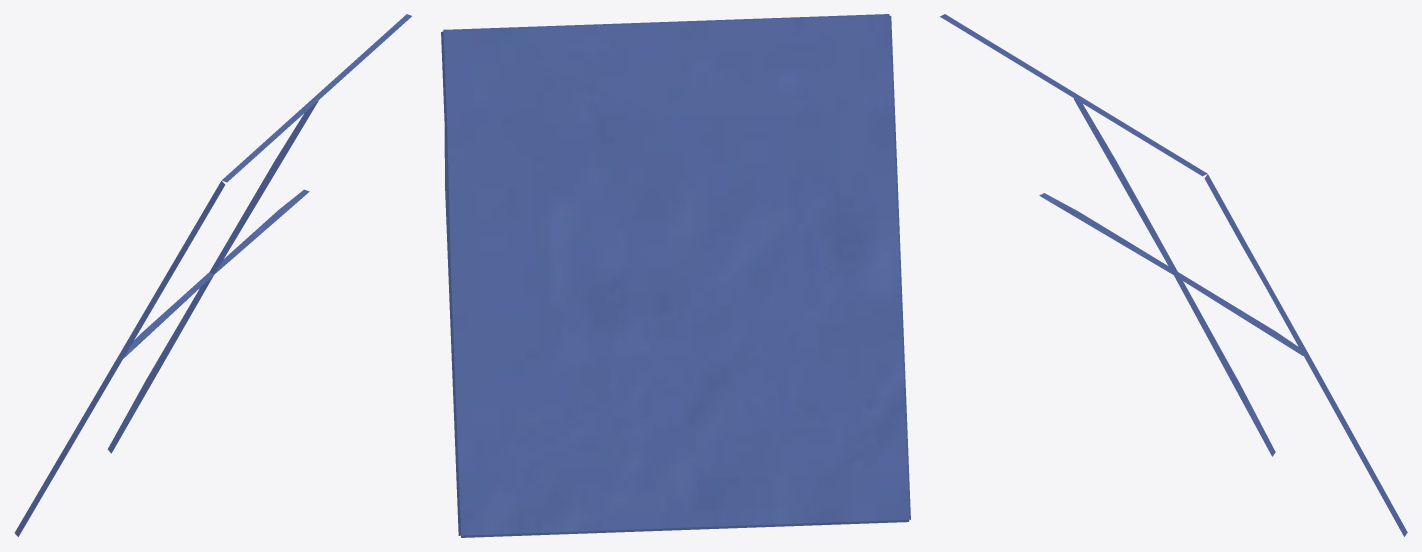
3 views of the same model, side by side, from view 1: azimuth 30°, elevation 25°; view 2: azimuth 150°, elevation 25°; view 3: azimuth 270°, elevation 25° (orthographic). The views are drawn at different scales.
Size of the model in its own units: 78542 by 69969 by 70611.
1 material, 1 textured.
